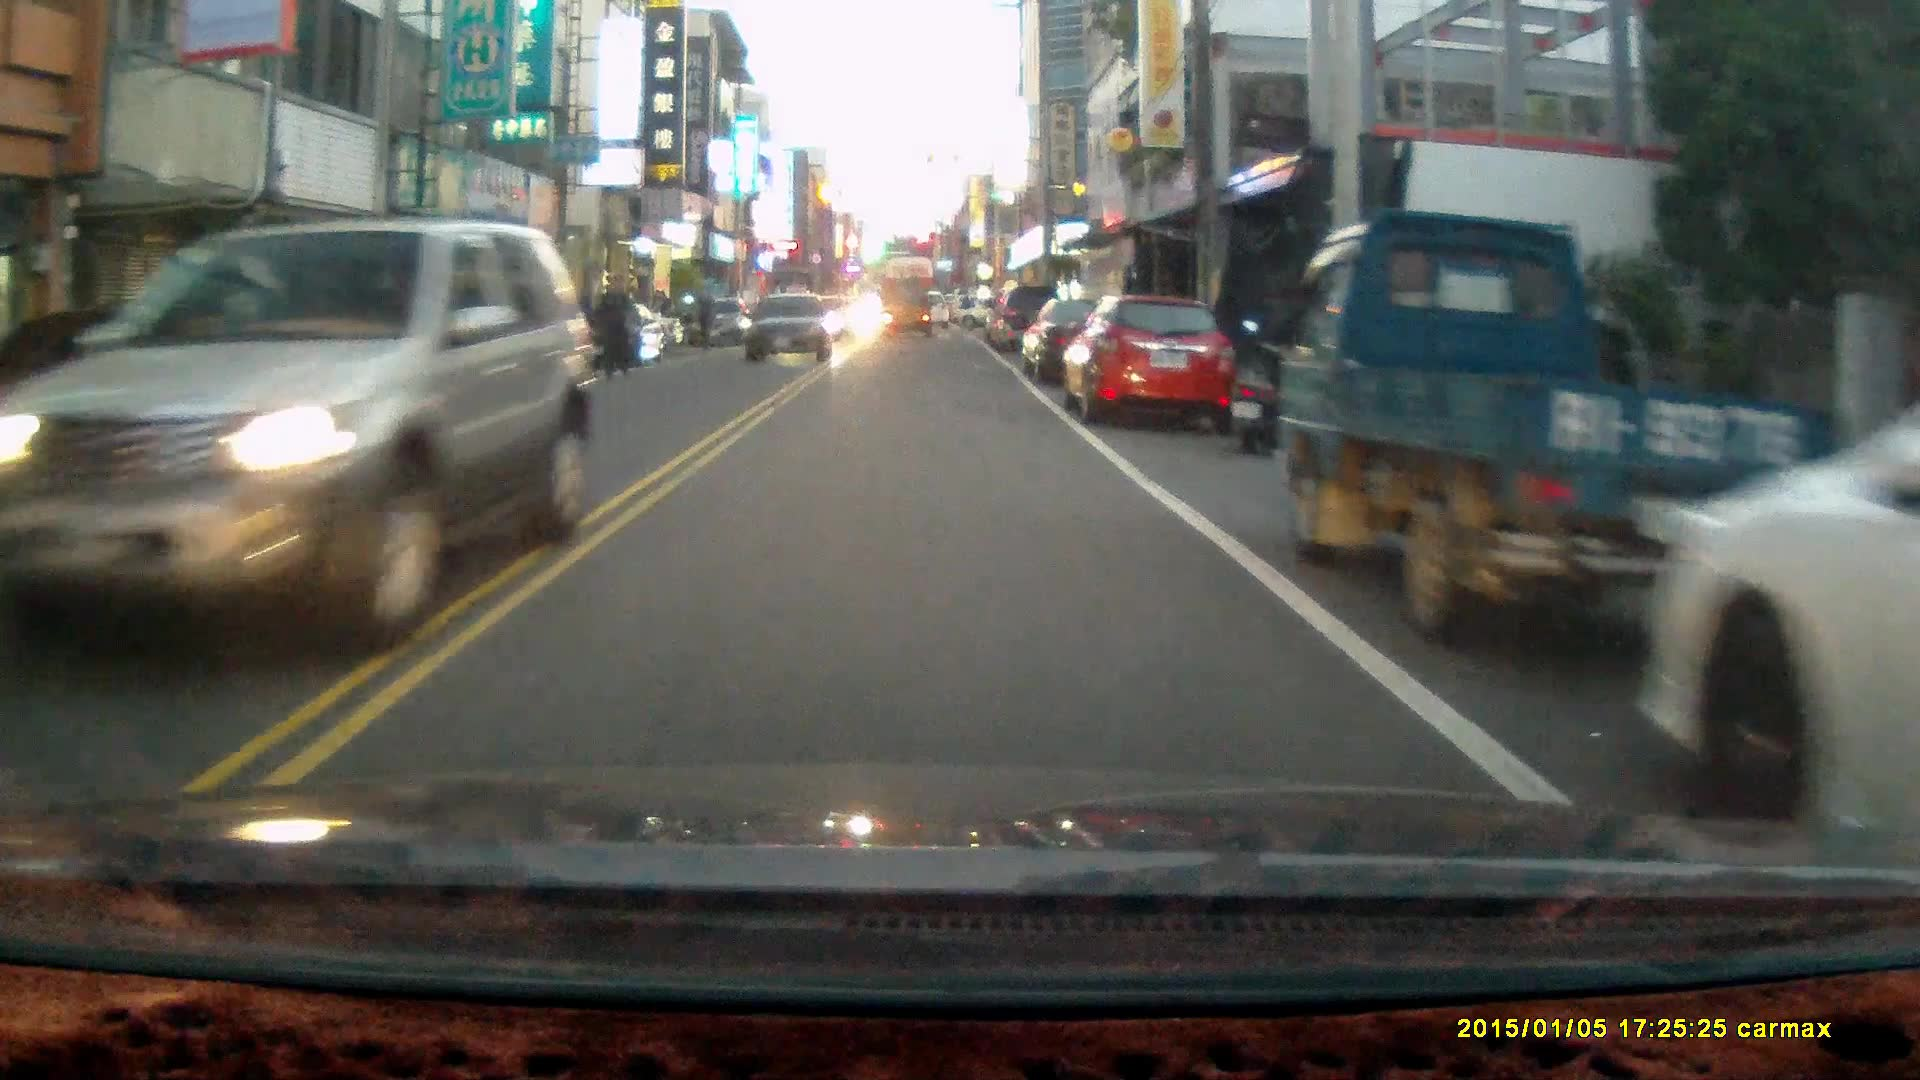pedestrian: (595, 271, 632, 377), (691, 285, 714, 349)
vehicle: (8, 219, 601, 662), (1267, 210, 1827, 641), (1632, 379, 1920, 882), (1065, 296, 1235, 430), (1016, 288, 1161, 392), (748, 289, 831, 365), (877, 281, 935, 341)
